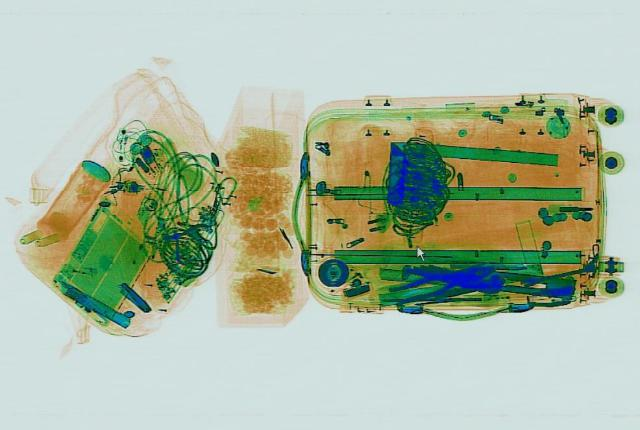Pliers: (382, 259, 498, 305)
